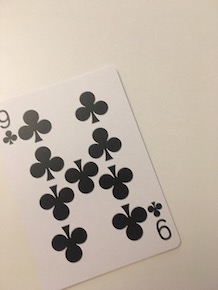NineOfClubs: (1, 60, 184, 288)
